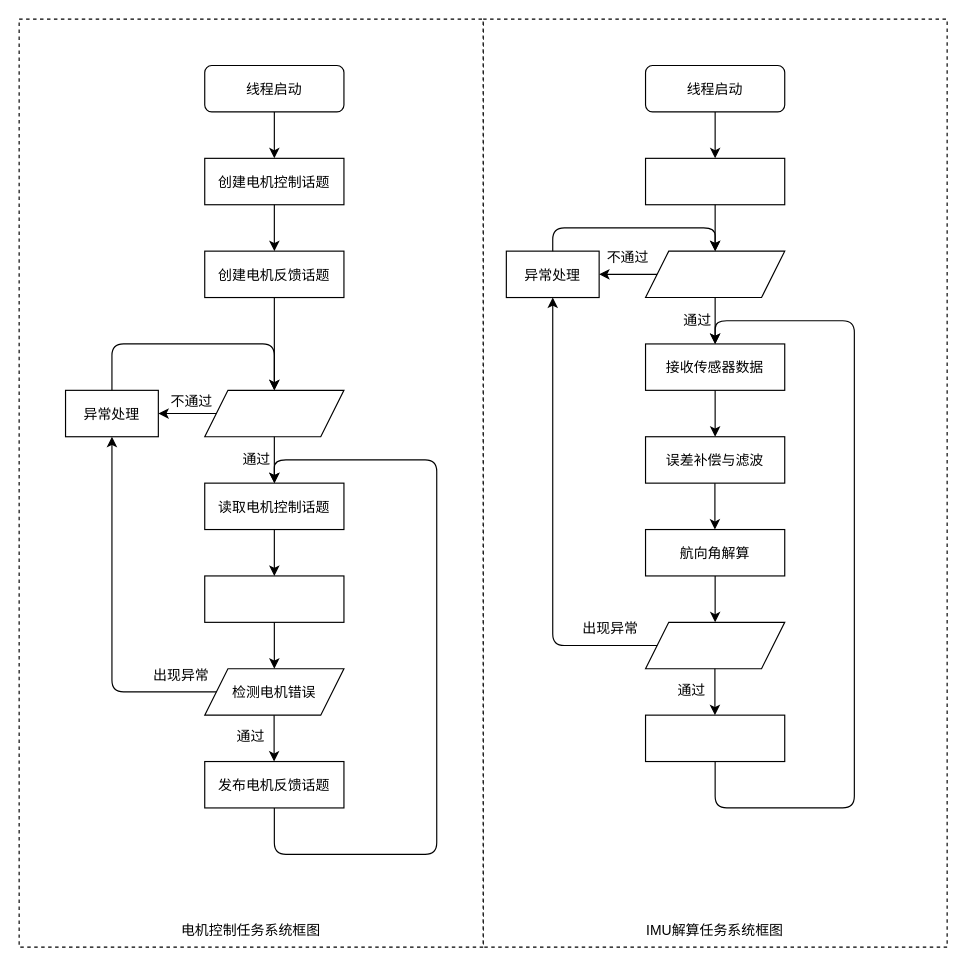
Image size: 966x966. Some labels were removed from this diagram. Here are the shapes that lost their labels. From the top down, the centre of each, then its label:
At pixel 714 181: "创建IMU话题".
At pixel 714 274: "BMI088初始化".
At pixel 274 413: "电机自检".
At pixel 274 598: "与电机交换数据".
At pixel 714 645: "检测传感器错误".
At pixel 714 738: "发布IMU话题".
